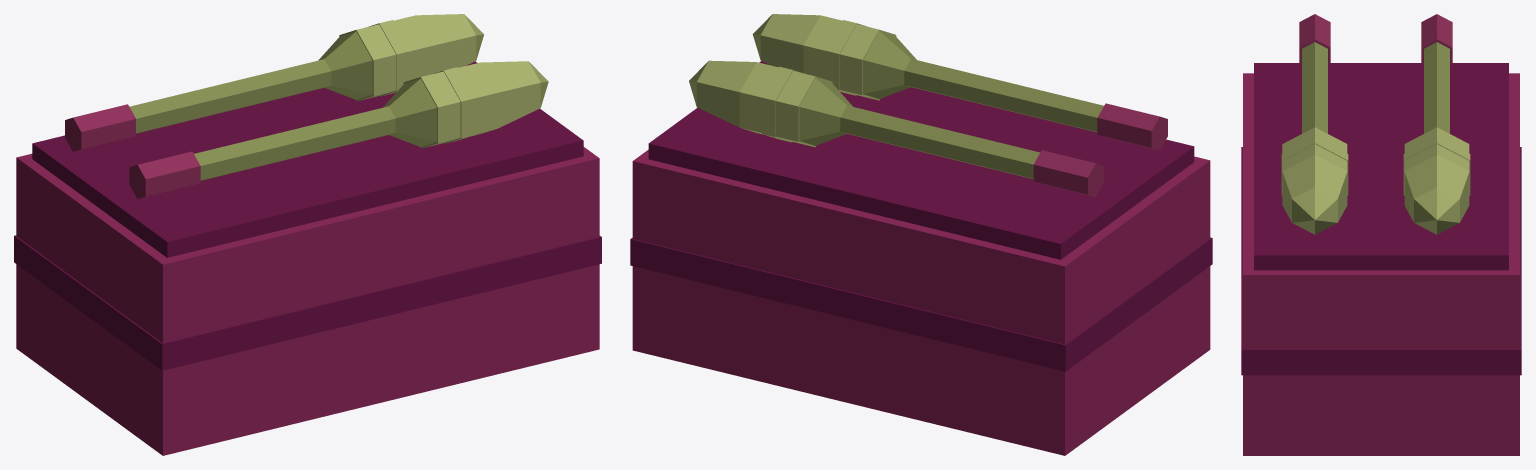
File: ce_ammo2_rpg_thermo_c.obj
3 views of the same model, side by side, from view 1: azimuth 30°, elevation 25°; view 2: azimuth 150°, elevation 25°; view 3: azimuth 270°, elevation 25° (orthographic). The views are drawn at different scales.
Visible parts, largest first — view 1: ce_ammo2_rpg_thermo_c_0, ce_ammo2_rpg_thermo_c_1, ce_ammo2_rpg_thermo_c_2, ce_ammo2_rpg_thermo_c_4, ce_ammo2_rpg_thermo_c_12, ce_ammo2_rpg_thermo_c_17, ce_ammo2_rpg_thermo_c_13, ce_ammo2_rpg_thermo_c_9, ce_ammo2_rpg_thermo_c_5, ce_ammo2_rpg_thermo_c_11, ce_ammo2_rpg_thermo_c_3, ce_ammo2_rpg_thermo_c_6 (+5 smaller); view 2: ce_ammo2_rpg_thermo_c_0, ce_ammo2_rpg_thermo_c_1, ce_ammo2_rpg_thermo_c_2, ce_ammo2_rpg_thermo_c_12, ce_ammo2_rpg_thermo_c_4, ce_ammo2_rpg_thermo_c_9, ce_ammo2_rpg_thermo_c_17, ce_ammo2_rpg_thermo_c_5, ce_ammo2_rpg_thermo_c_13, ce_ammo2_rpg_thermo_c_3, ce_ammo2_rpg_thermo_c_11, ce_ammo2_rpg_thermo_c_14 (+5 smaller); view 3: ce_ammo2_rpg_thermo_c_0, ce_ammo2_rpg_thermo_c_1, ce_ammo2_rpg_thermo_c_2, ce_ammo2_rpg_thermo_c_9, ce_ammo2_rpg_thermo_c_17, ce_ammo2_rpg_thermo_c_4, ce_ammo2_rpg_thermo_c_12, ce_ammo2_rpg_thermo_c_10, ce_ammo2_rpg_thermo_c_18, ce_ammo2_rpg_thermo_c_3, ce_ammo2_rpg_thermo_c_11, ce_ammo2_rpg_thermo_c_16 (+5 smaller).
Boxes of the visible parts, <box> form: ce_ammo2_rpg_thermo_c_0: <box>16,147,599,455</box>; ce_ammo2_rpg_thermo_c_1: <box>32,61,583,257</box>; ce_ammo2_rpg_thermo_c_2: <box>14,235,601,370</box>; ce_ammo2_rpg_thermo_c_4: <box>129,59,331,133</box>; ce_ammo2_rpg_thermo_c_12: <box>194,106,395,180</box>; ce_ammo2_rpg_thermo_c_17: <box>480,61,540,128</box>; ce_ammo2_rpg_thermo_c_13: <box>383,78,437,146</box>; ce_ammo2_rpg_thermo_c_9: <box>416,14,476,73</box>; ce_ammo2_rpg_thermo_c_5: <box>318,31,372,99</box>; ce_ammo2_rpg_thermo_c_11: <box>129,151,200,198</box>; ce_ammo2_rpg_thermo_c_3: <box>65,104,135,151</box>; ce_ammo2_rpg_thermo_c_6: <box>339,24,396,101</box>; ce_ammo2_rpg_thermo_c_0: <box>632,149,1210,455</box>; ce_ammo2_rpg_thermo_c_1: <box>648,61,1194,259</box>; ce_ammo2_rpg_thermo_c_2: <box>630,237,1212,371</box>; ce_ammo2_rpg_thermo_c_12: <box>904,58,1103,132</box>; ce_ammo2_rpg_thermo_c_4: <box>840,105,1039,179</box>; ce_ammo2_rpg_thermo_c_9: <box>696,60,756,127</box>; ce_ammo2_rpg_thermo_c_17: <box>760,14,820,72</box>; ce_ammo2_rpg_thermo_c_5: <box>799,78,852,145</box>; ce_ammo2_rpg_thermo_c_13: <box>863,31,916,99</box>; ce_ammo2_rpg_thermo_c_3: <box>1033,150,1104,197</box>; ce_ammo2_rpg_thermo_c_11: <box>1097,103,1167,150</box>; ce_ammo2_rpg_thermo_c_14: <box>839,24,896,100</box>; ce_ammo2_rpg_thermo_c_0: <box>1243,73,1519,455</box>; ce_ammo2_rpg_thermo_c_1: <box>1254,63,1508,270</box>; ce_ammo2_rpg_thermo_c_2: <box>1241,147,1521,375</box>; ce_ammo2_rpg_thermo_c_9: <box>1404,154,1469,222</box>; ce_ammo2_rpg_thermo_c_17: <box>1282,154,1347,222</box>; ce_ammo2_rpg_thermo_c_4: <box>1424,42,1449,133</box>; ce_ammo2_rpg_thermo_c_12: <box>1302,42,1327,133</box>; ce_ammo2_rpg_thermo_c_10: <box>1414,187,1459,234</box>; ce_ammo2_rpg_thermo_c_18: <box>1292,187,1337,234</box>; ce_ammo2_rpg_thermo_c_3: <box>1421,14,1452,64</box>; ce_ammo2_rpg_thermo_c_11: <box>1299,14,1330,64</box>; ce_ammo2_rpg_thermo_c_16: <box>1282,144,1347,171</box>.
Size of the model in its own units: 0.866 by 0.5268 by 0.506.
